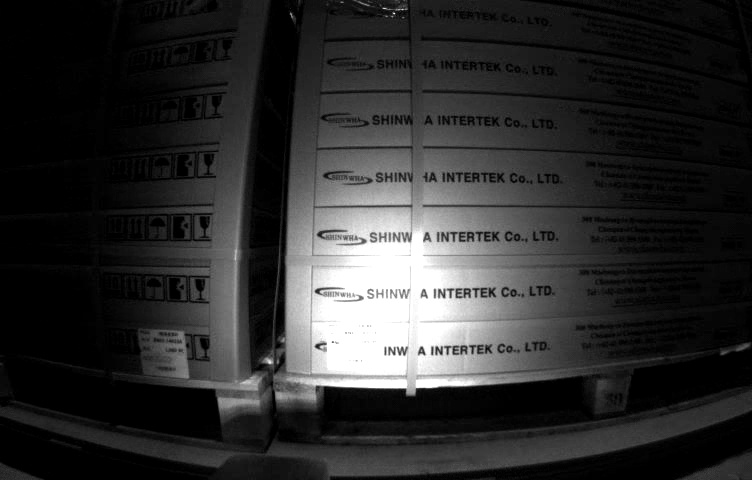True Barcode: (327, 322, 381, 374), (138, 328, 189, 379)
